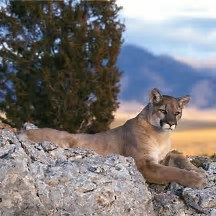Mountain Lion: (139, 88, 195, 141)
